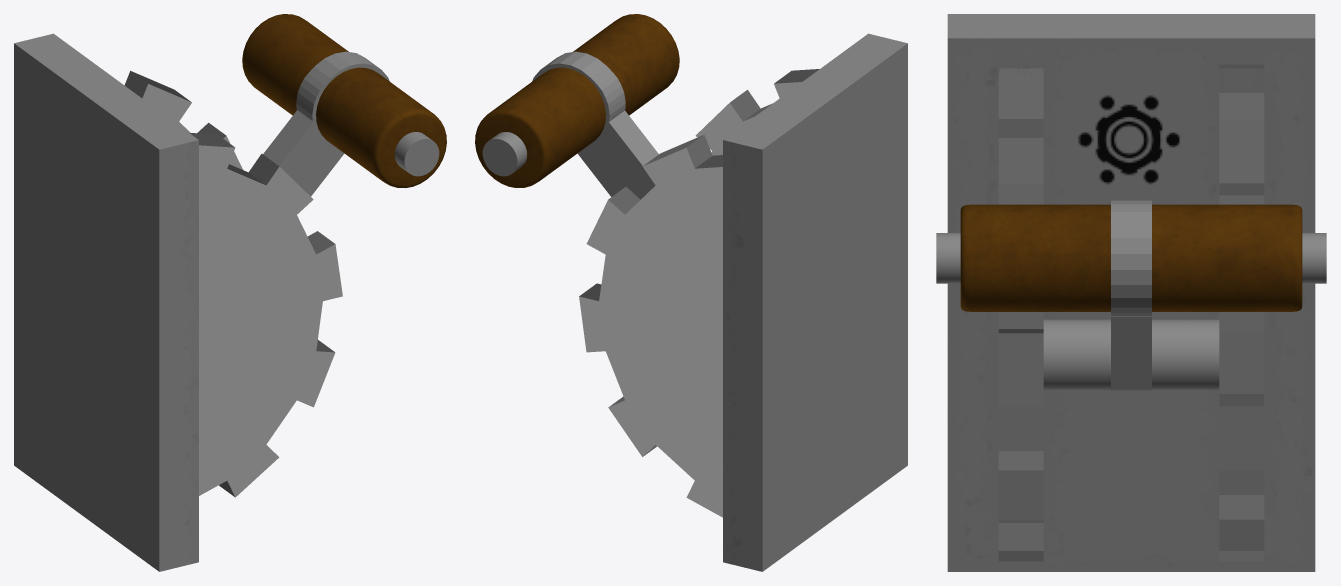
File: SM_Lever_A.fbx
3 views of the same model, side by side, from view 1: azimuth 30°, elevation 25°; view 2: azimuth 150°, elevation 25°; view 3: azimuth 270°, elevation 25° (orthographic). The views are drawn at different scales.
Parts seen in each view (by area): view 1: Box065, Cylinder018; view 2: Box065, Cylinder018; view 3: Box065, Cylinder018.
Part boxes in pixels (x1,y1,x2,y2): Box065: [14, 33, 342, 571]; Cylinder018: [242, 14, 446, 196]; Box065: [579, 33, 907, 571]; Cylinder018: [475, 14, 679, 199]; Box065: [947, 14, 1315, 571]; Cylinder018: [936, 200, 1326, 390].
Size of the model in its own units: 59.16 by 53.11 by 80.06.
Materials: 1 (1 with a texture image).
